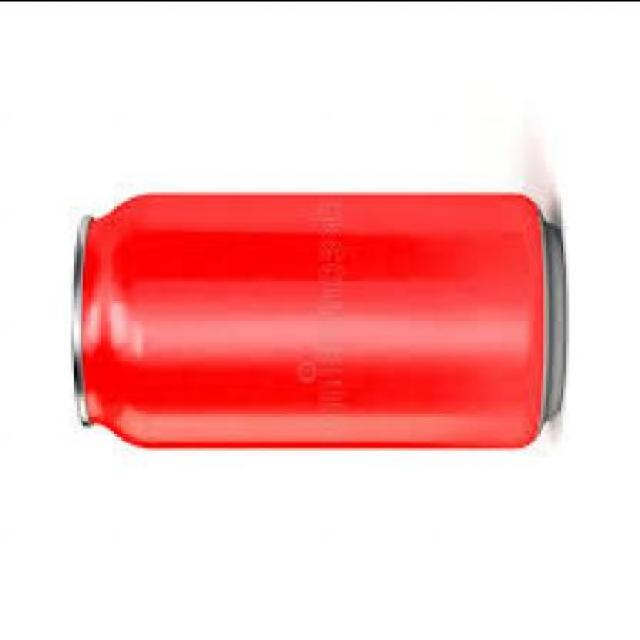metal: (66, 191, 562, 443)
